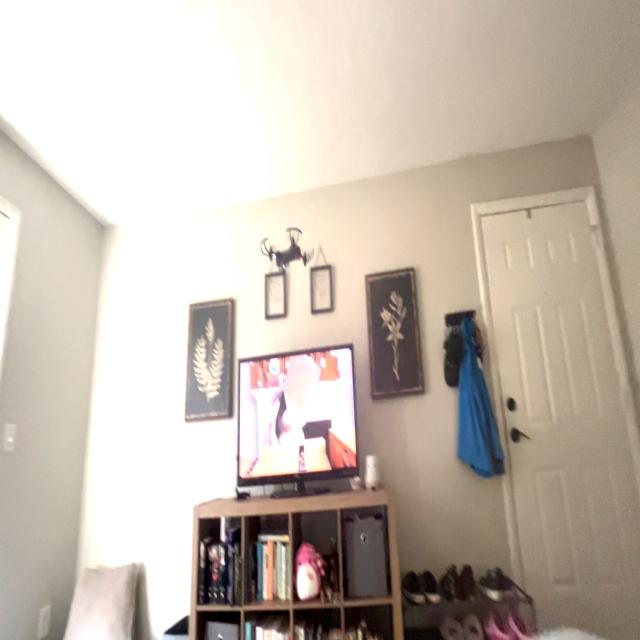drone: (252, 218, 317, 278)
